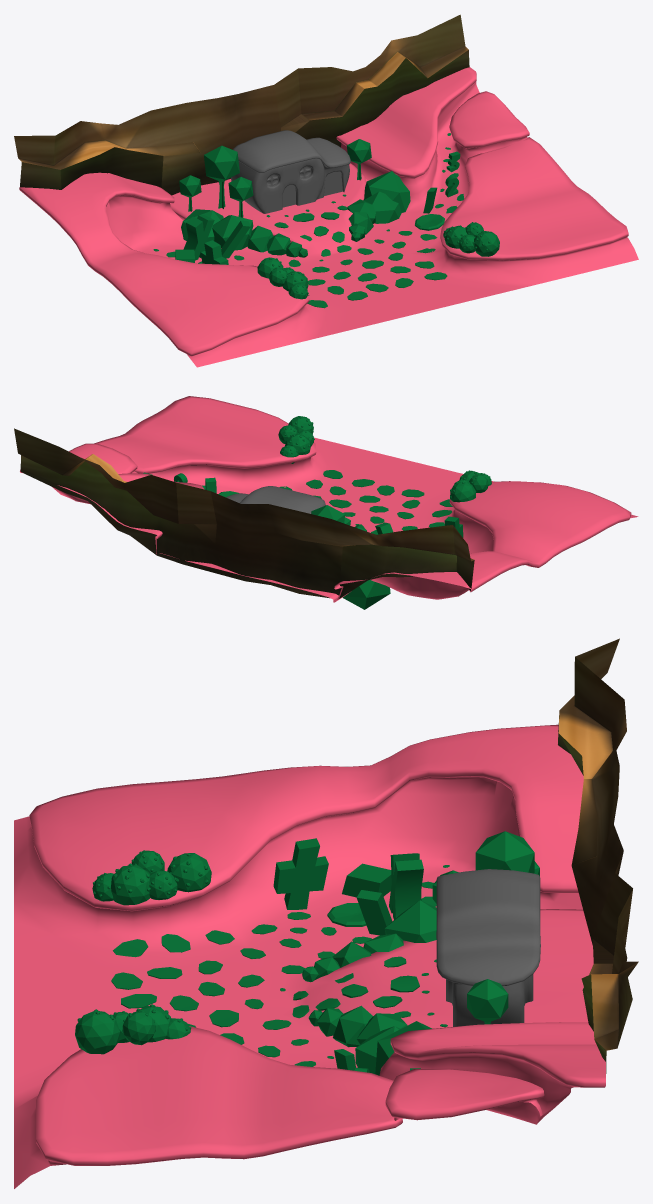
File: MainMenu.FBX
3 views of the same model, one above another, from view 1: azimuth 30°, elevation 25°; view 2: azimuth 150°, elevation 25°; view 3: azimuth 270°, elevation 25° (orthographic). The views are drawn at different scales.
Parts seen in each view (by area): view 1: Terrain, RockWall, Plane007, House; view 2: Terrain, RockWall, Plane007, House; view 3: Terrain, Plane007, RockWall, House.
Part boxes in pixels (box(x1,y1,x2,y2)): Terrain: box(19, 67, 638, 367); RockWall: box(14, 14, 469, 195); Plane007: box(153, 133, 499, 308); House: box(231, 130, 350, 213); Terrain: box(20, 396, 638, 602); RockWall: box(14, 428, 474, 598); Plane007: box(143, 416, 491, 609); House: box(226, 486, 325, 513); Terrain: box(14, 724, 605, 1188); Plane007: box(75, 831, 539, 1075); RockWall: box(558, 638, 638, 1073); House: box(436, 869, 540, 1026).
Size of the model in its own units: 9222 by 6441 by 2706.
Materials: 4 (1 with a texture image).
